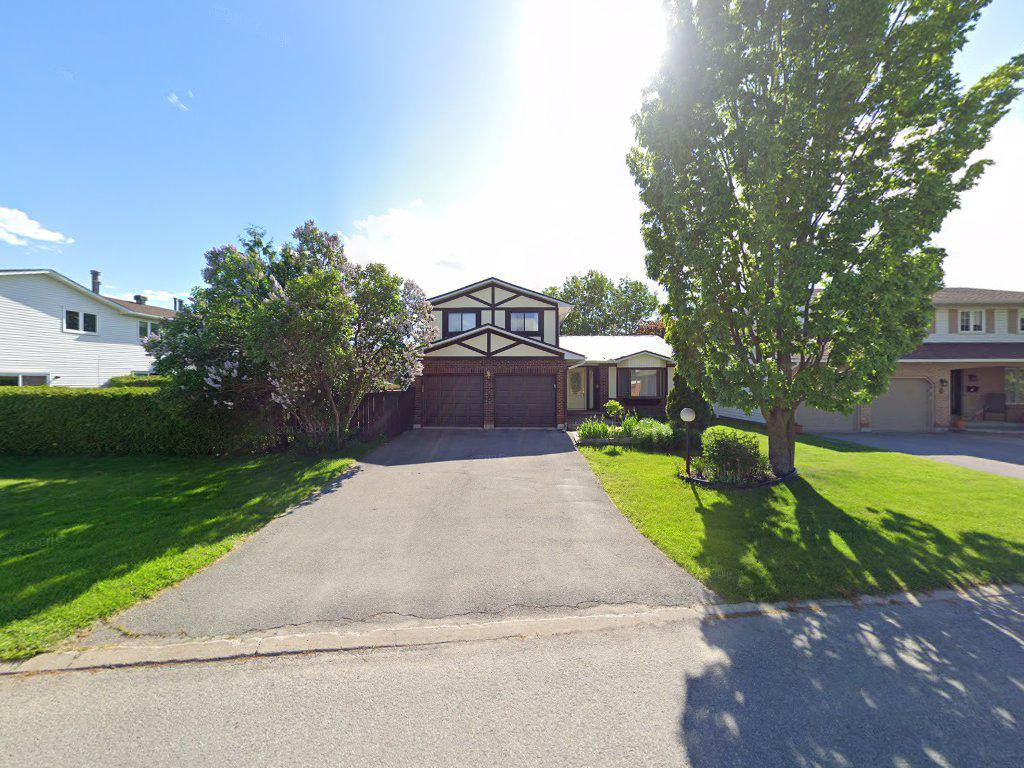trunk: (758, 393, 807, 484)
